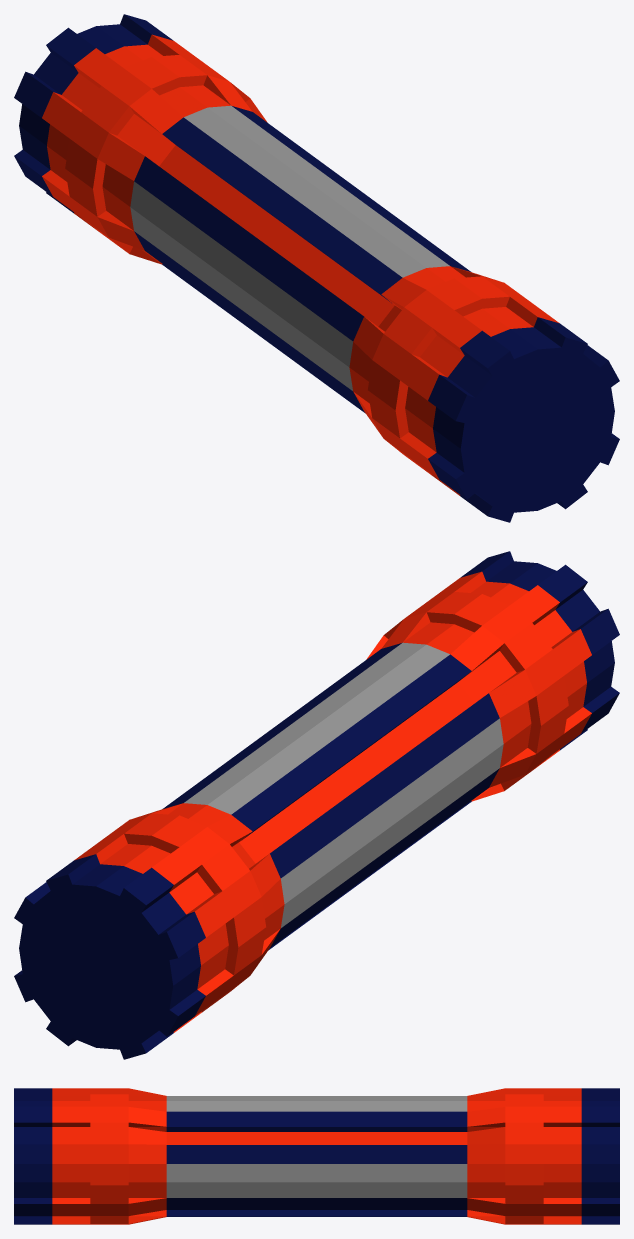
Rendered from connectorS.FBX.
3 renders of one model, top to bottom at view 1: azimuth 30°, elevation 25°; view 2: azimuth 150°, elevation 25°; view 3: azimuth 270°, elevation 25°, orthographic. The views are drawn at different scales.
Parts seen in each view (by area): view 1: Соеденитель-М001; view 2: Соеденитель-М001; view 3: Соеденитель-М001.
Part boxes in pixels (box(x1,y1,x2,y2)): Соеденитель-М001: box(14, 14, 619, 522); Соеденитель-М001: box(14, 551, 619, 1059); Соеденитель-М001: box(14, 1088, 619, 1224).
Size of the model in its own units: 26.96 by 119 by 26.96.
